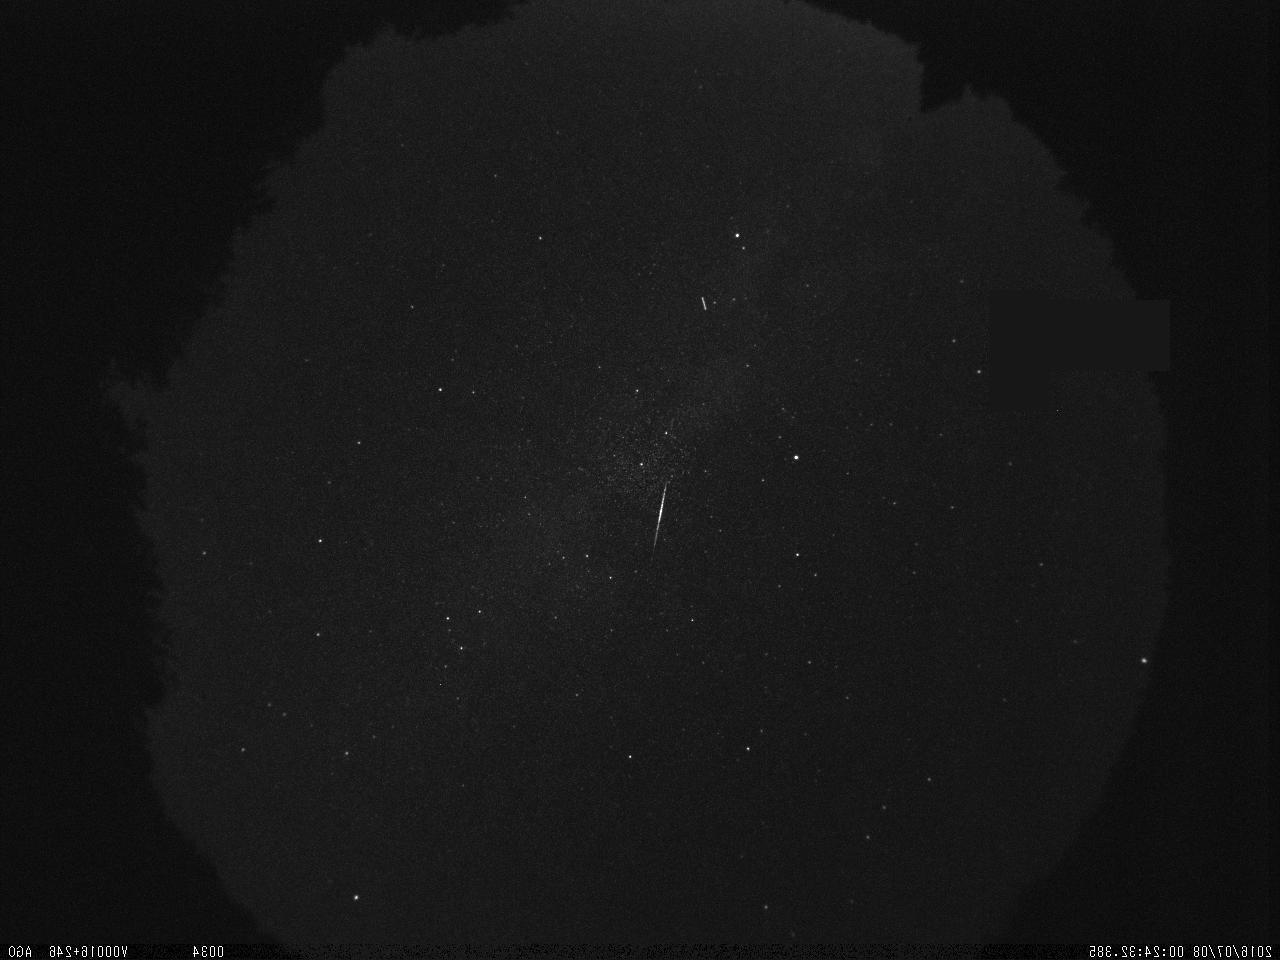meteor: (630, 468, 690, 567)
